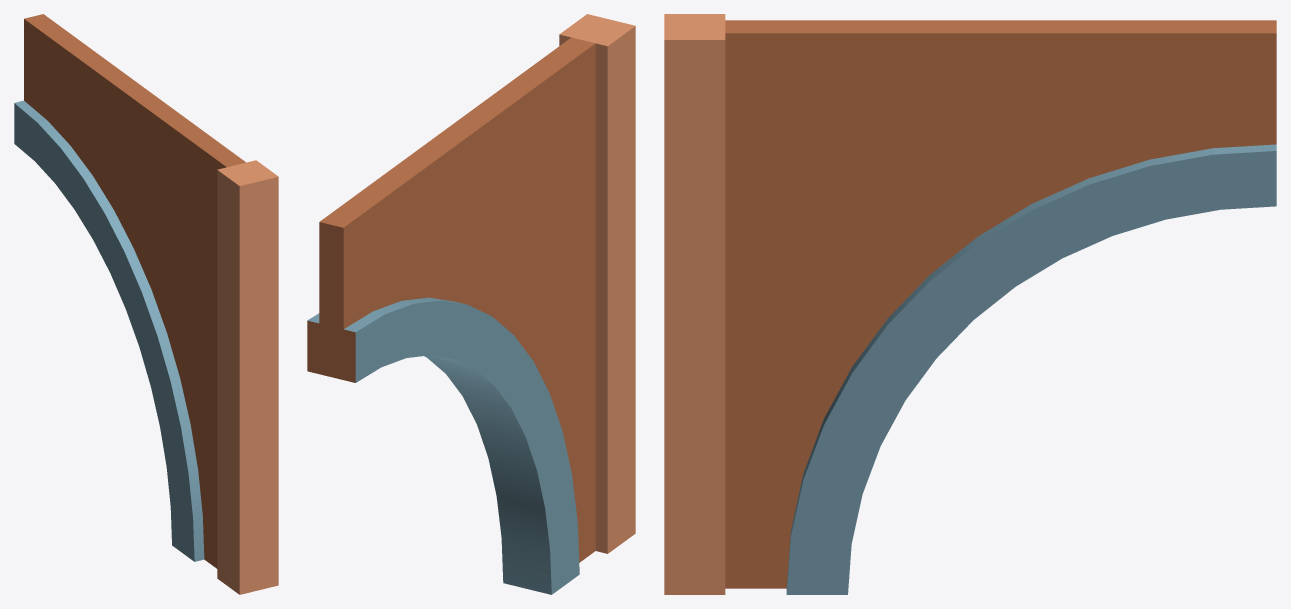
File: wallWoodArchTop.obj
3 views of the same model, side by side, from view 1: azimuth 30°, elevation 25°; view 2: azimuth 150°, elevation 25°; view 3: azimuth 270°, elevation 25° (orthographic). The views are drawn at different scales.
Visible parts, largest first — view 1: wallWoodArchTop; view 2: wallWoodArchTop; view 3: wallWoodArchTop.
Part boxes in pixels (x1=…): wallWoodArchTop: x1=14, y1=14, x2=278, y2=594; wallWoodArchTop: x1=307, y1=14, x2=635, y2=594; wallWoodArchTop: x1=664, y1=14, x2=1276, y2=594.
Size of the model in its own units: 0.1 by 1 by 1.
